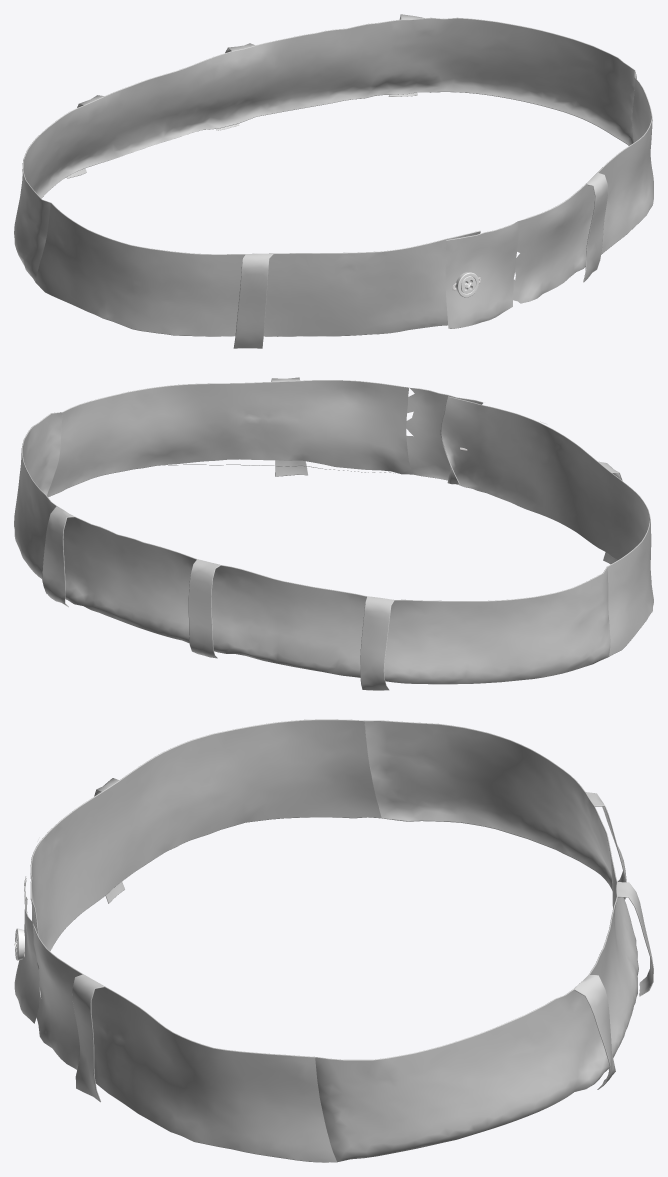
Rendered from button_waist_band.glb.
3 renders of one model, top to bottom at view 1: azimuth 30°, elevation 25°; view 2: azimuth 150°, elevation 25°; view 3: azimuth 270°, elevation 25°, orthographic. The views are drawn at different scales.
Parts seen in each view (by area): view 1: belt loop.002; view 2: belt loop.002; view 3: belt loop.002.
Boxes of the visible parts, x1,y1,x2,y2 form: belt loop.002: (14, 14, 653, 348); belt loop.002: (14, 377, 653, 690); belt loop.002: (14, 719, 653, 1162).
Size of the model in its own units: 32.8 by 5.72 by 25.21.
6 materials, 3 textured.
